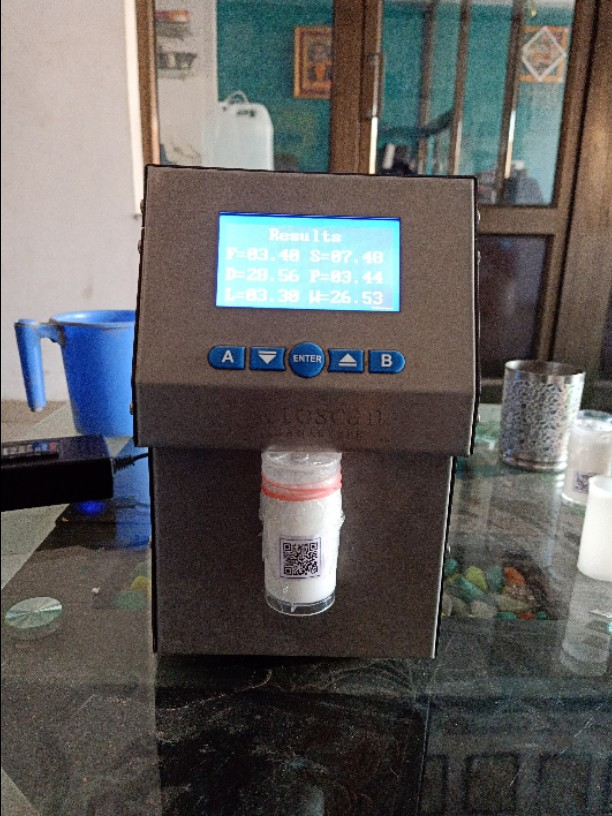lcd: (212, 210, 405, 318)
qr: (277, 532, 324, 580)
